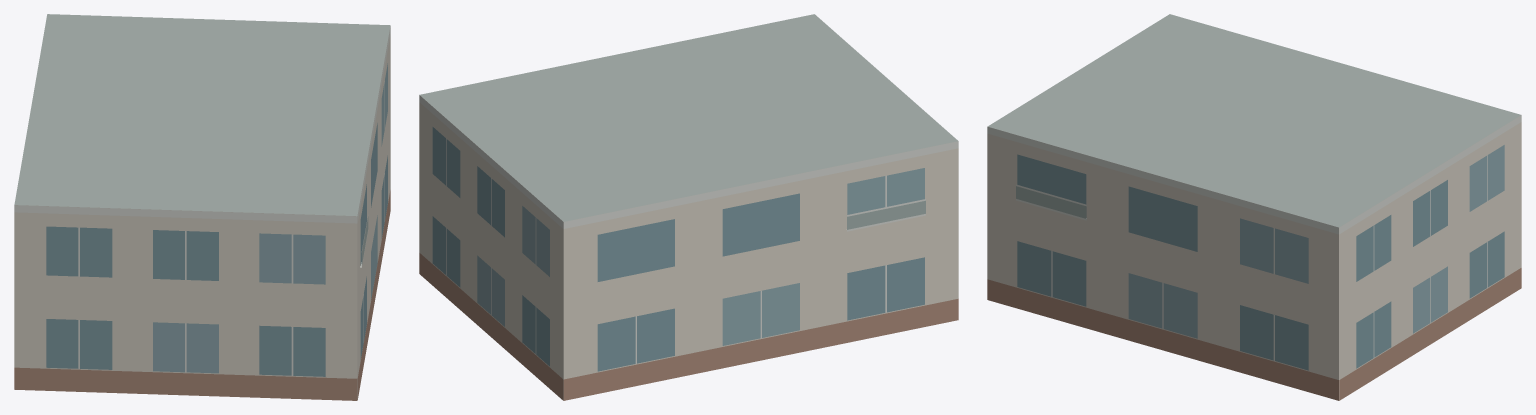
File: survey-upis-32975957.glb
The picture shows the model from 3 angles, left to right: view 1: azimuth 30°, elevation 25°; view 2: azimuth 150°, elevation 25°; view 3: azimuth 270°, elevation 25°; orthographic projection. The views are drawn at different scales.
Visible parts, largest first — view 1: survey-upis-32975957.tmp; view 2: survey-upis-32975957.tmp; view 3: survey-upis-32975957.tmp.
Boxes of the visible parts, left/top/right/bottom form: survey-upis-32975957.tmp: left=14, top=14, right=390, bottom=400; survey-upis-32975957.tmp: left=419, top=14, right=958, bottom=400; survey-upis-32975957.tmp: left=987, top=14, right=1521, bottom=400.
Bounding box in the file's own units: 16.13 × 6.1 × 17.05.
